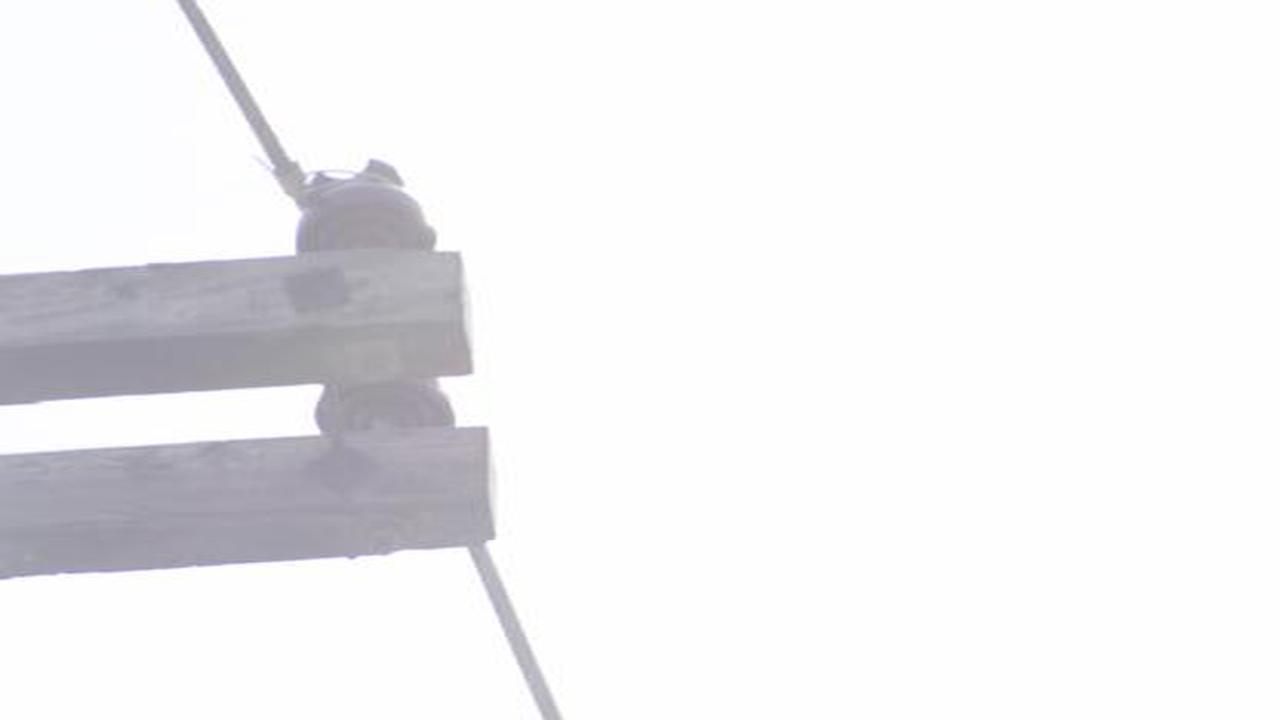insulator_pin: (287, 148, 444, 263)
